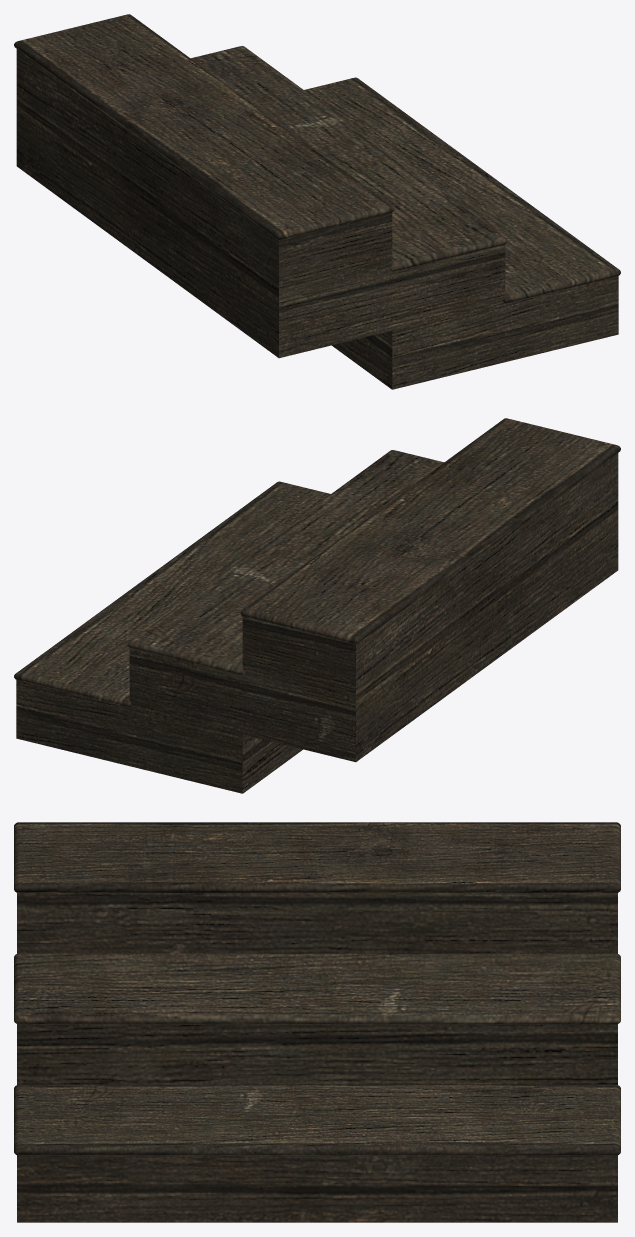
Rendered from baseLadder 1.fbx.
3 views of the same model, one above another, from view 1: azimuth 30°, elevation 25°; view 2: azimuth 150°, elevation 25°; view 3: azimuth 270°, elevation 25° (orthographic). The views are drawn at different scales.
Visible parts, largest first — view 1: Plane.002; view 2: Plane.002; view 3: Plane.002.
Part boxes in pixels (x1,y1,x2,y2): Plane.002: (14,14,620,389); Plane.002: (14,418,620,793); Plane.002: (14,822,620,1222).
Bounding box in the file's own units: 91.13 × 46.64 × 122.
1 material, 1 textured.
